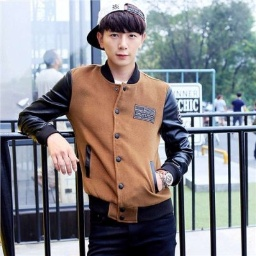face: (97, 3, 146, 70)
